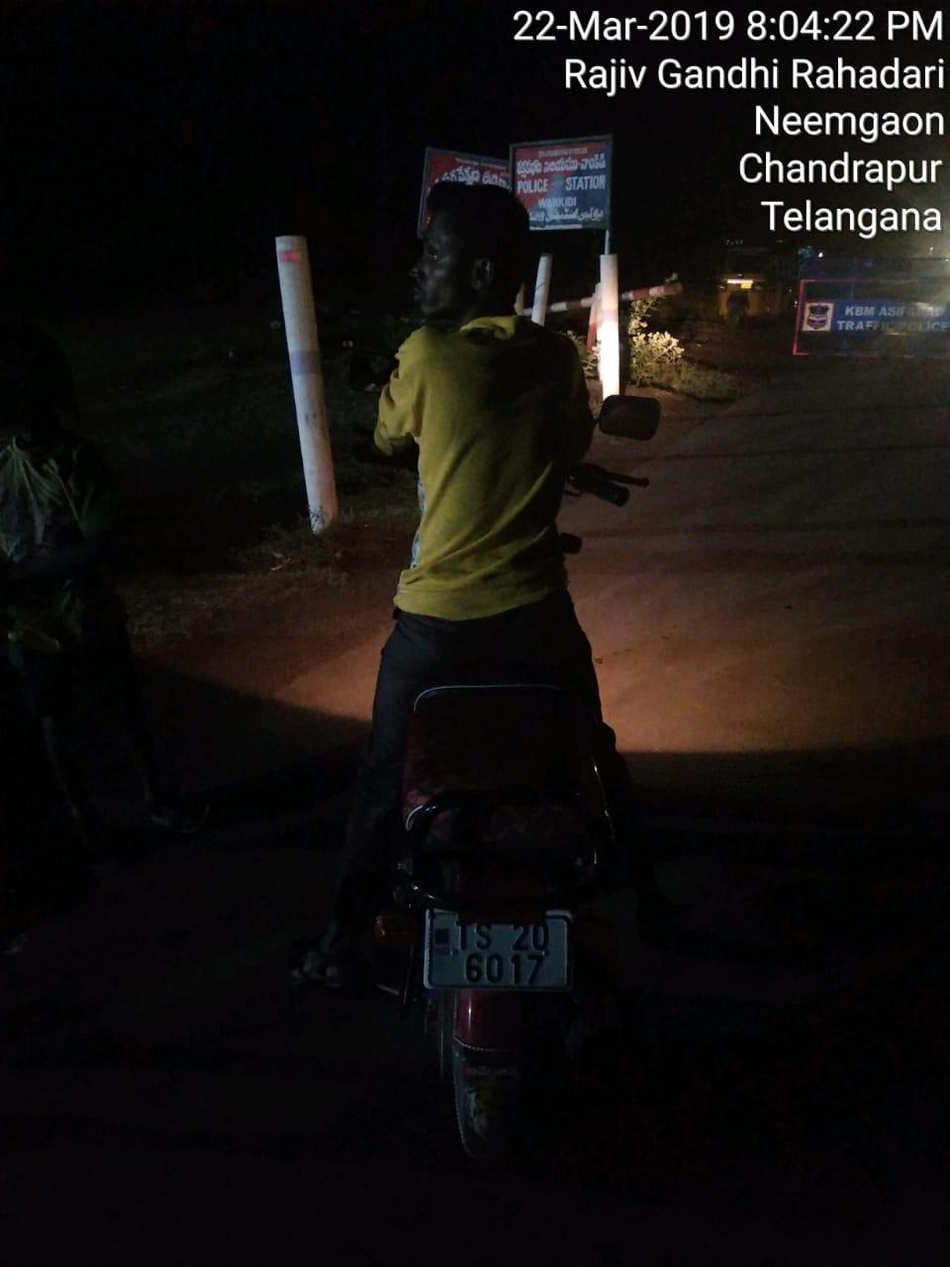plate: (406, 895, 592, 1005)
